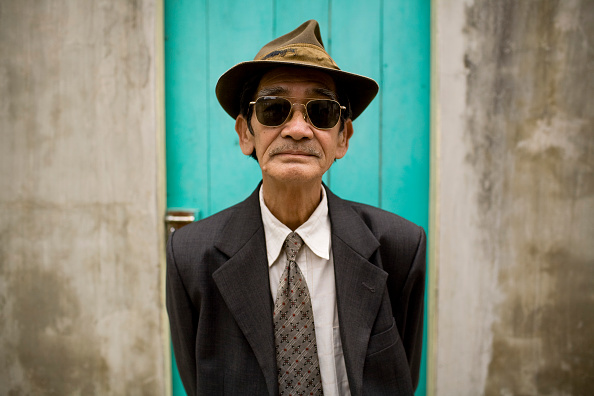em pe: (144, 16, 454, 396)
